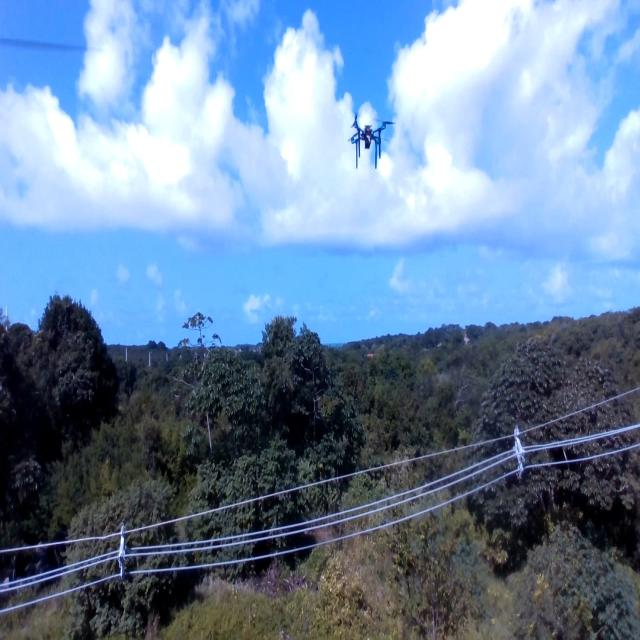-uav-: (337, 104, 401, 178)
